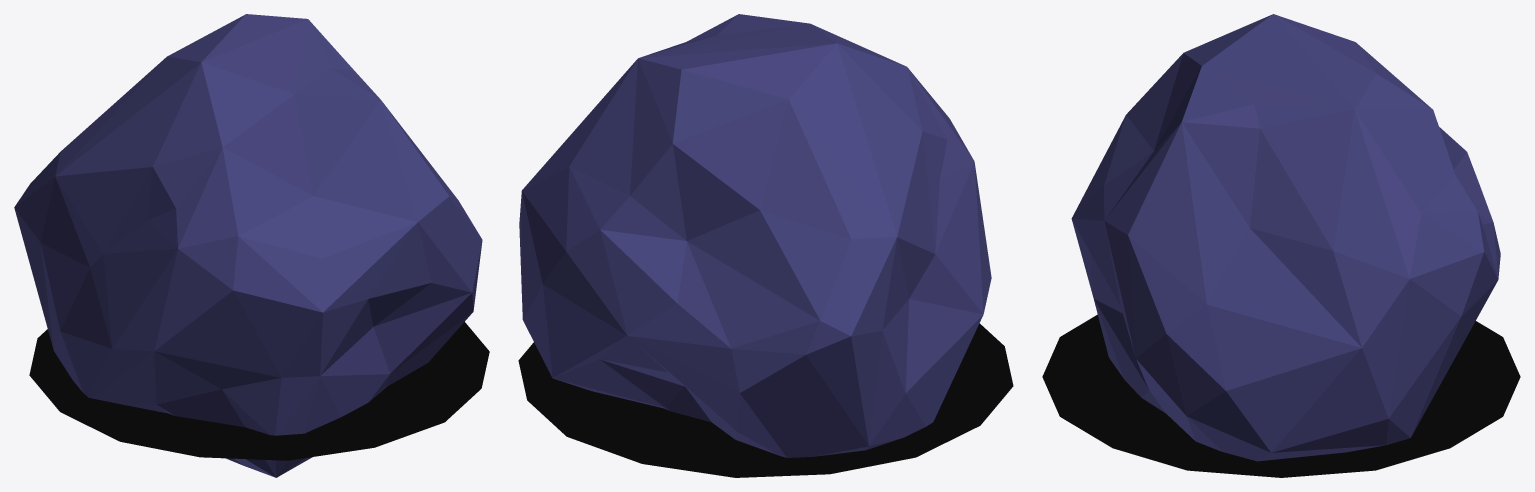
File: Kamien6.fbx
3 renders of one model, left to right at view 1: azimuth 30°, elevation 25°; view 2: azimuth 150°, elevation 25°; view 3: azimuth 270°, elevation 25°, orthographic. The views are drawn at different scales.
Visible parts, largest first — view 1: Cube.002; view 2: Cube.002; view 3: Cube.002.
Part boxes in pixels (<box>): Cube.002: <box>14,14,489,477</box>; Cube.002: <box>518,14,1013,477</box>; Cube.002: <box>1042,14,1520,477</box>.
Bounding box in the file's own units: 172 × 155 × 172.
